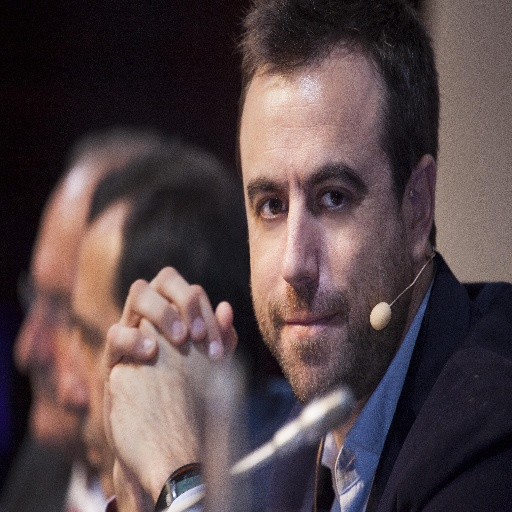hand: (99, 267, 233, 478)
